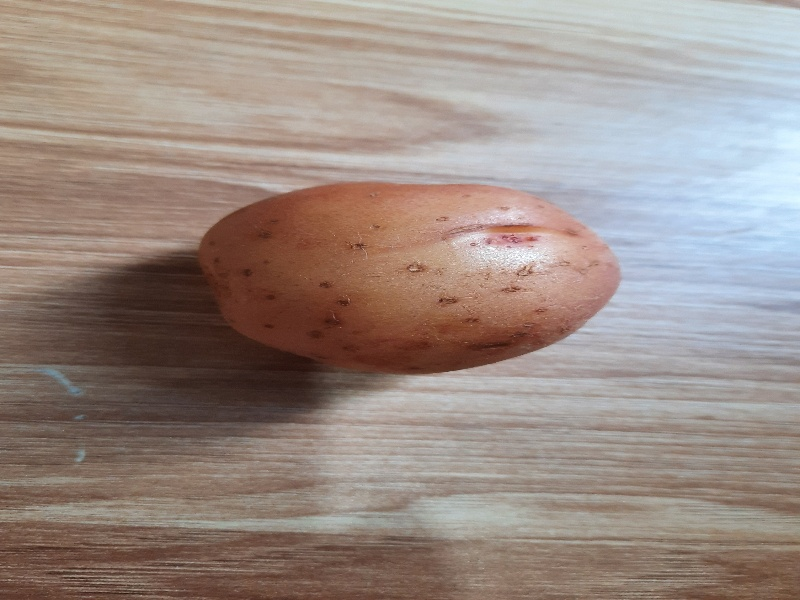vege: (194, 177, 630, 380)
